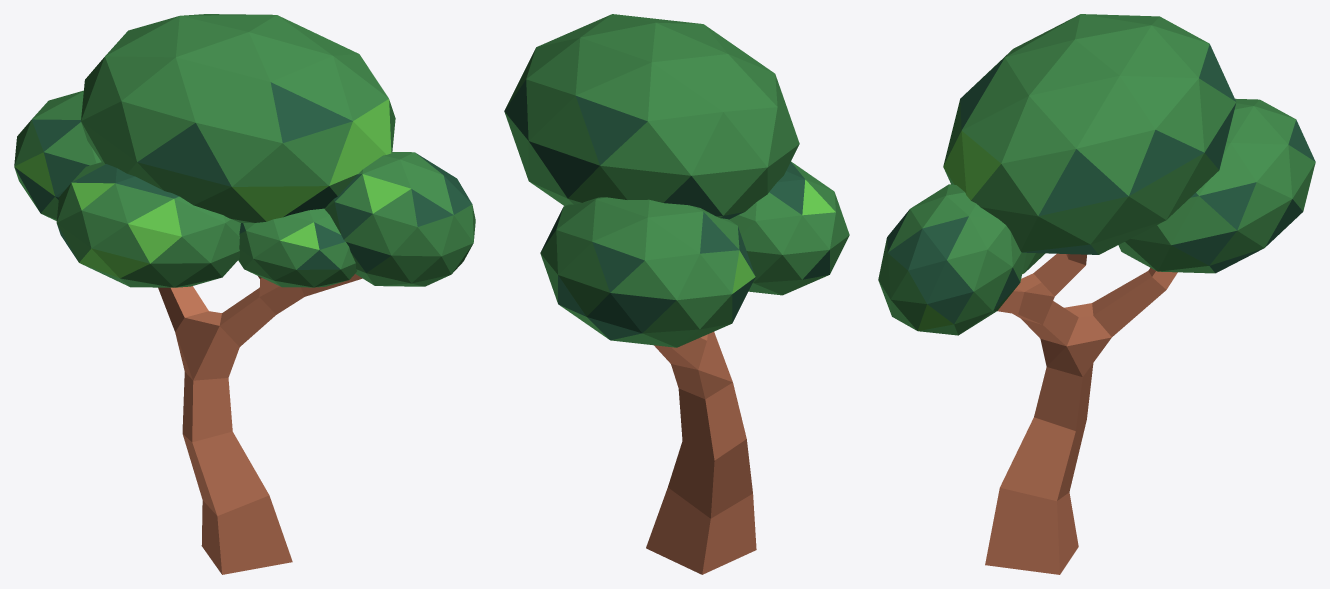
File: Tree_01_1.fbx
The picture shows the model from 3 angles, left to right: view 1: azimuth 30°, elevation 25°; view 2: azimuth 150°, elevation 25°; view 3: azimuth 270°, elevation 25°; orthographic projection. The views are drawn at different scales.
Visible parts, largest first — view 1: Tree_01 top, Tree_01 trunk; view 2: Tree_01 top, Tree_01 trunk; view 3: Tree_01 top, Tree_01 trunk.
Part boxes in pixels (x1,y1,x2,y2): Tree_01 top: [14, 14, 475, 515]; Tree_01 trunk: [201, 495, 292, 574]; Tree_01 top: [504, 14, 849, 518]; Tree_01 trunk: [646, 487, 756, 574]; Tree_01 top: [878, 14, 1315, 500]; Tree_01 trunk: [985, 488, 1078, 574].
Size of the model in its own units: 417 by 602 by 450.
